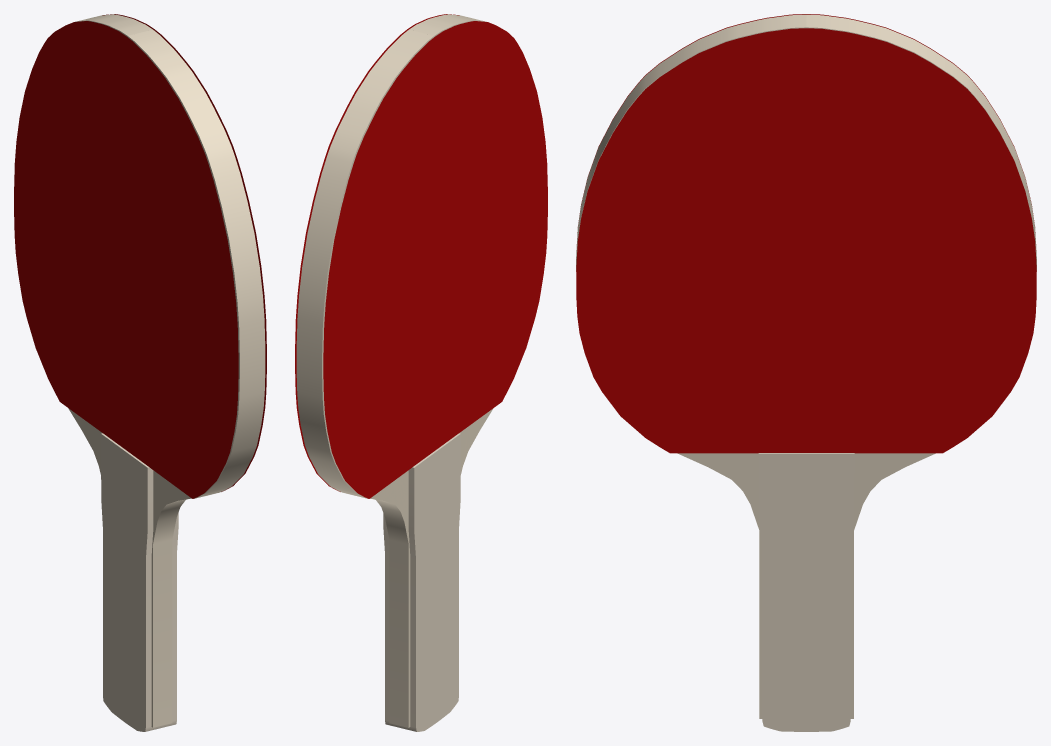
Rendered from pingpongracket.fbx.
3 views of the same model, side by side, from view 1: azimuth 30°, elevation 25°; view 2: azimuth 150°, elevation 25°; view 3: azimuth 270°, elevation 25° (orthographic). The views are drawn at different scales.
Parts seen in each view (by area): view 1: pCube6, pCube12, pCube5, pCube9, pCube3; view 2: pCube6, pCube12, pCube5, pCube9, pCube3; view 3: pCube3, pCube12, pCube5, pCube9.
Boxes of the visible parts, x1,y1,x2,y2 form: pCube6: [14, 21, 238, 498]; pCube12: [101, 433, 178, 731]; pCube5: [75, 14, 265, 498]; pCube9: [68, 408, 191, 727]; pCube3: [102, 14, 266, 491]; pCube6: [323, 21, 547, 498]; pCube12: [383, 433, 460, 731]; pCube5: [296, 14, 486, 498]; pCube9: [370, 408, 493, 727]; pCube3: [295, 14, 459, 491]; pCube3: [576, 28, 1036, 453]; pCube12: [758, 453, 854, 731]; pCube5: [576, 14, 1036, 270]; pCube9: [677, 453, 935, 718].
Bounding box in the file's own units: 1.89 × 39.75 × 23.6.
